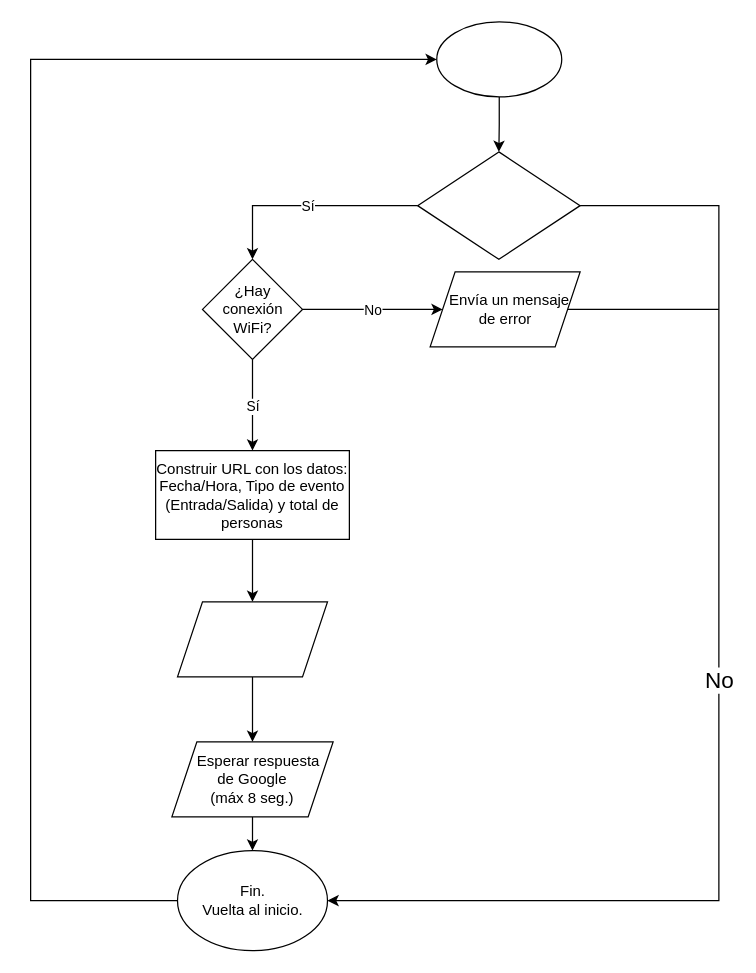
This 756x973 diagram has some shape labels left out. Each missing label, with the centre of its shape:
Enviar petición HTTP GET a Google Sheets: pixel 252 639
Iniciar tarea: pixel 499 59
¿Hay un nuevo "evento" en la cola de mensajes?: pixel 498 205
